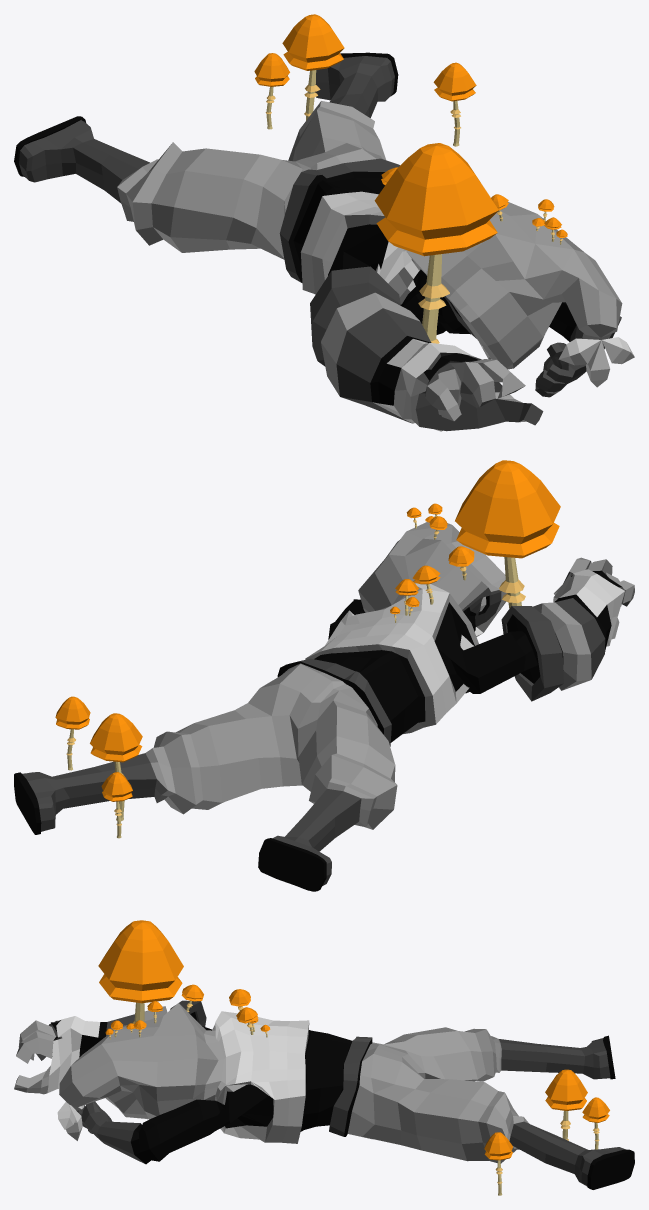
File: WHITEranger_FIN_01.fbx
The picture shows the model from 3 angles, top to bottom: view 1: azimuth 30°, elevation 25°; view 2: azimuth 150°, elevation 25°; view 3: azimuth 270°, elevation 25°; orthographic projection. The views are drawn at different scales.
Visible parts, largest first — view 1: WHITE_ranger; view 2: WHITE_ranger; view 3: WHITE_ranger.
Part boxes in pixels (<box>): WHITE_ranger: <box>14,14,634,431</box>; WHITE_ranger: <box>14,460,634,891</box>; WHITE_ranger: <box>14,920,634,1195</box>.
Size of the model in its own units: 134 by 86.94 by 254.
